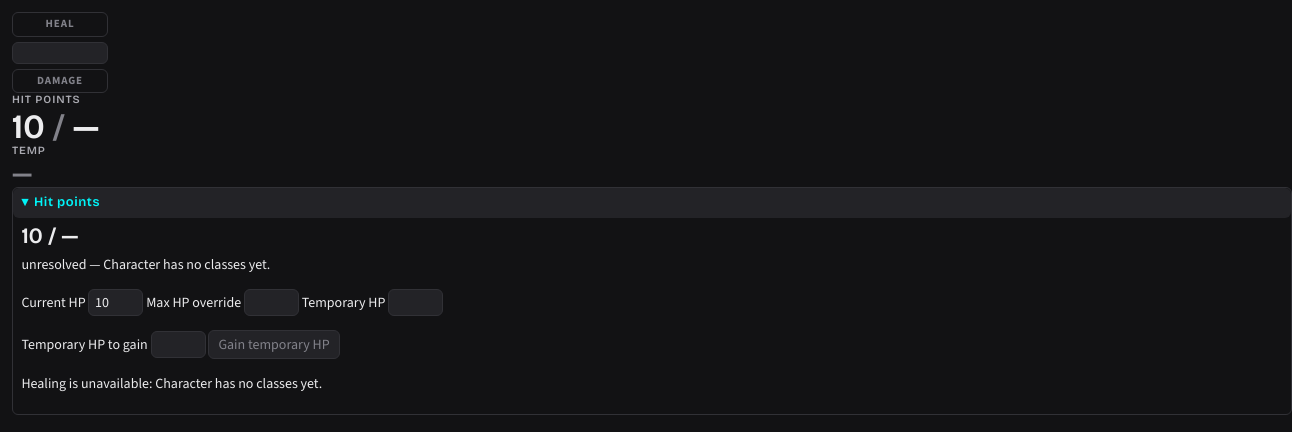
Test case: damage, healing and temporary hit points › withholds healing, and says why, when the maximum cannot be computed (D43)
The image size is (1292, 432).
Type "5" into the number field named "Amount". click: (60, 52)
box: x1=12 y1=42 x2=108 y2=64
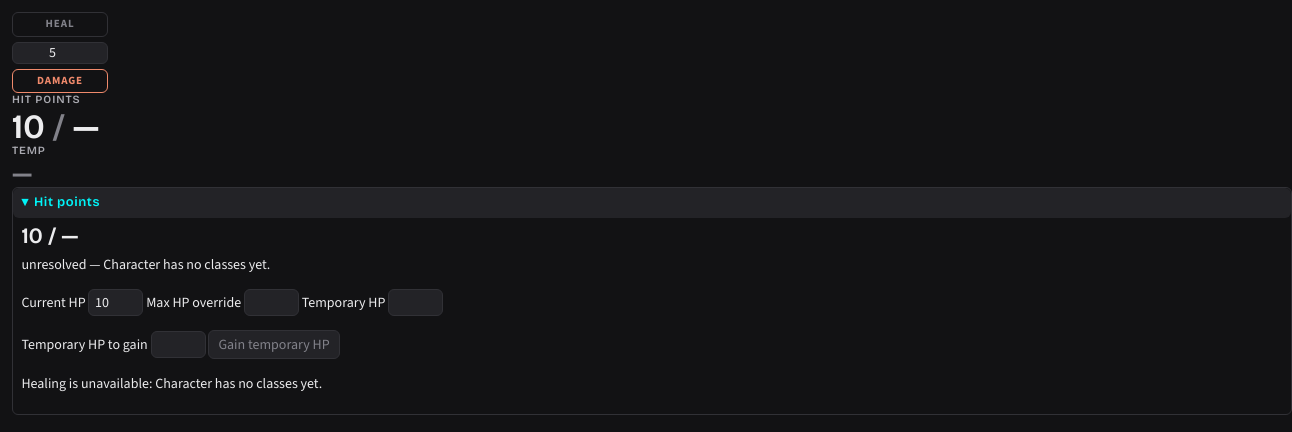
Expected: the button "Heal" is disabled, x1=12 y1=12 x2=108 y2=36
Expected: the button "Damage" is enabled, x1=12 y1=68 x2=108 y2=93
